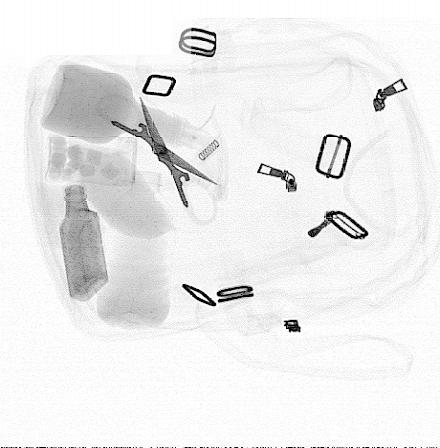Scissors: (95, 92, 220, 228)
